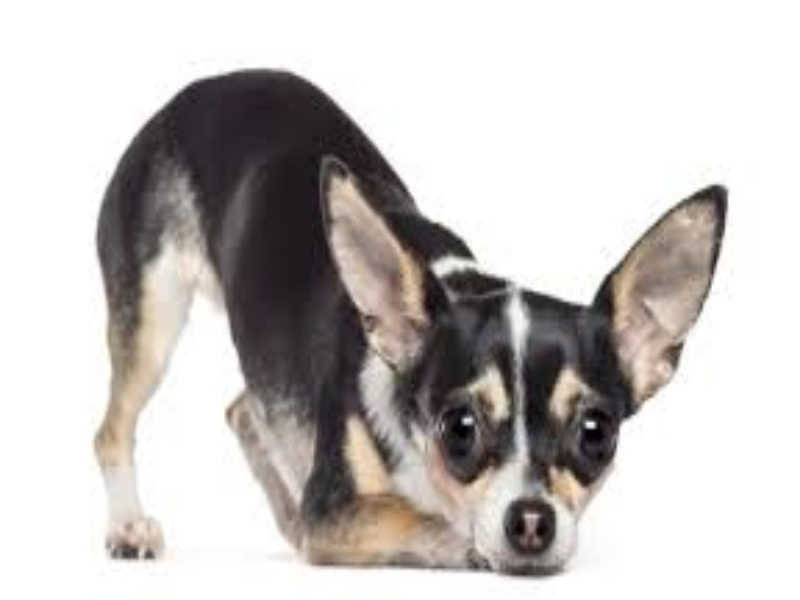dog: (83, 61, 737, 596)
